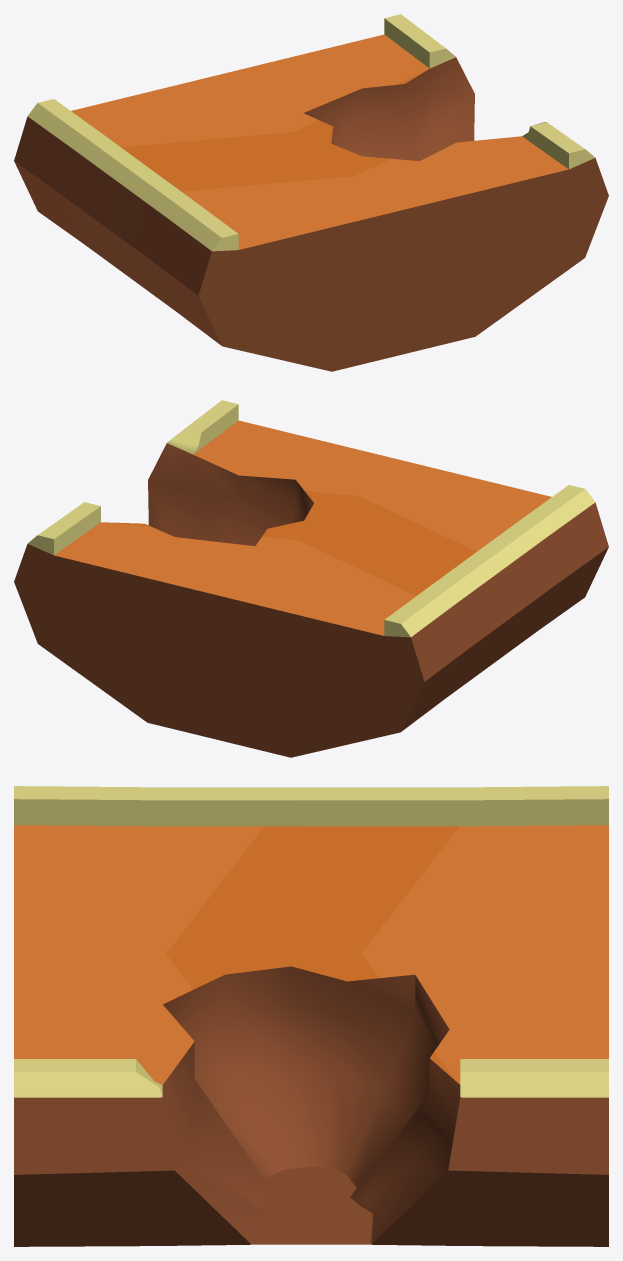
File: gemi_sol_kirik_parca.fbx
3 renders of one model, top to bottom at view 1: azimuth 30°, elevation 25°; view 2: azimuth 150°, elevation 25°; view 3: azimuth 270°, elevation 25°, orthographic. The views are drawn at different scales.
Parts seen in each view (by area): view 1: kırık sol; view 2: kırık sol; view 3: kırık sol.
Boxes of the visible parts, left/top/right/bottom form: kırık sol: left=14, top=14, right=608, bottom=371; kırık sol: left=14, top=400, right=608, bottom=757; kırık sol: left=14, top=786, right=608, bottom=1246.
Bounding box in the file's own units: 515 × 192 × 400.
Materials: 3 (1 with a texture image).
